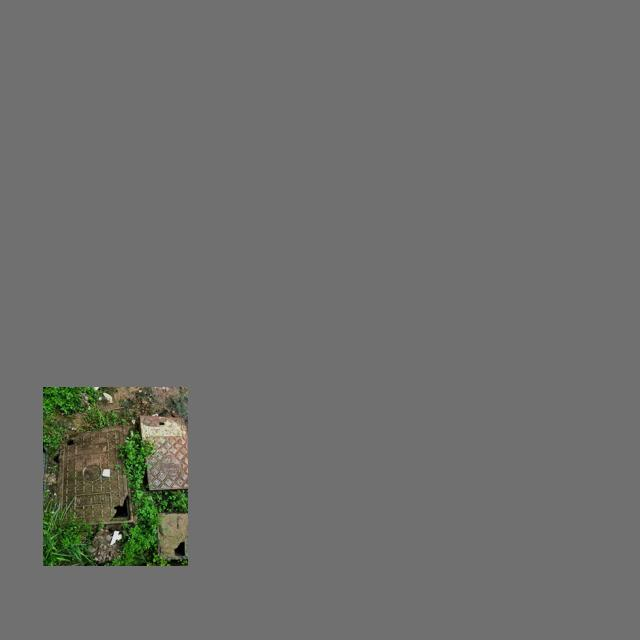broke: (59, 425, 133, 525)
